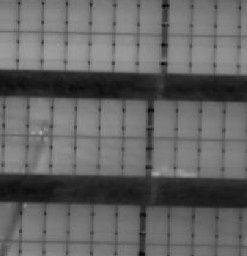solar: (15, 29, 44, 71), (40, 29, 69, 71), (63, 29, 92, 71), (87, 31, 116, 73), (111, 31, 140, 73), (135, 31, 164, 73), (165, 31, 194, 73), (189, 33, 218, 75), (212, 33, 241, 75), (1, 94, 30, 136), (26, 94, 55, 136), (49, 95, 78, 137), (74, 96, 103, 138), (97, 96, 126, 138), (121, 97, 150, 139), (151, 98, 180, 140), (173, 98, 202, 140), (198, 99, 227, 141), (24, 133, 53, 175), (48, 133, 77, 175), (73, 134, 102, 176), (95, 135, 124, 177), (120, 135, 149, 177), (149, 135, 178, 177), (172, 136, 201, 178), (197, 136, 226, 178), (18, 200, 47, 242), (42, 201, 71, 243), (66, 201, 95, 243), (90, 201, 119, 243), (113, 201, 142, 243), (142, 203, 171, 245), (166, 204, 195, 246), (191, 205, 220, 247), (214, 205, 243, 247), (1, 132, 29, 174), (166, 1, 195, 36), (213, 1, 242, 34), (189, 1, 218, 33)
